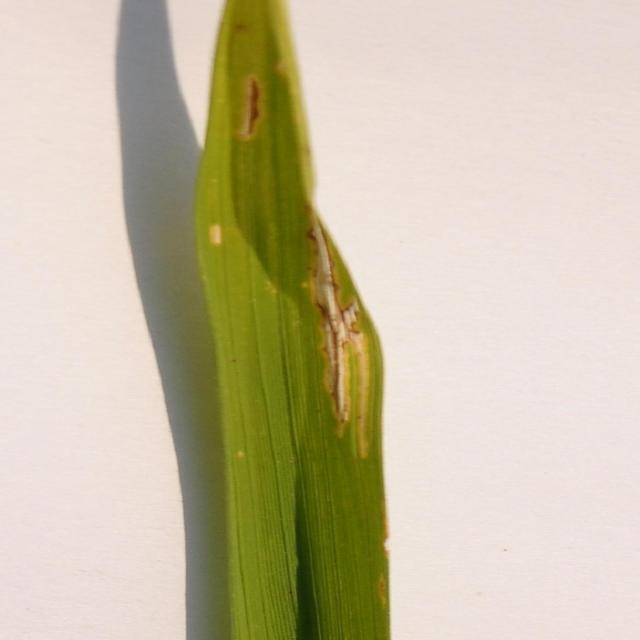Bacterial leaf blight: (288, 166, 379, 464), (237, 68, 269, 154), (200, 213, 231, 260)
